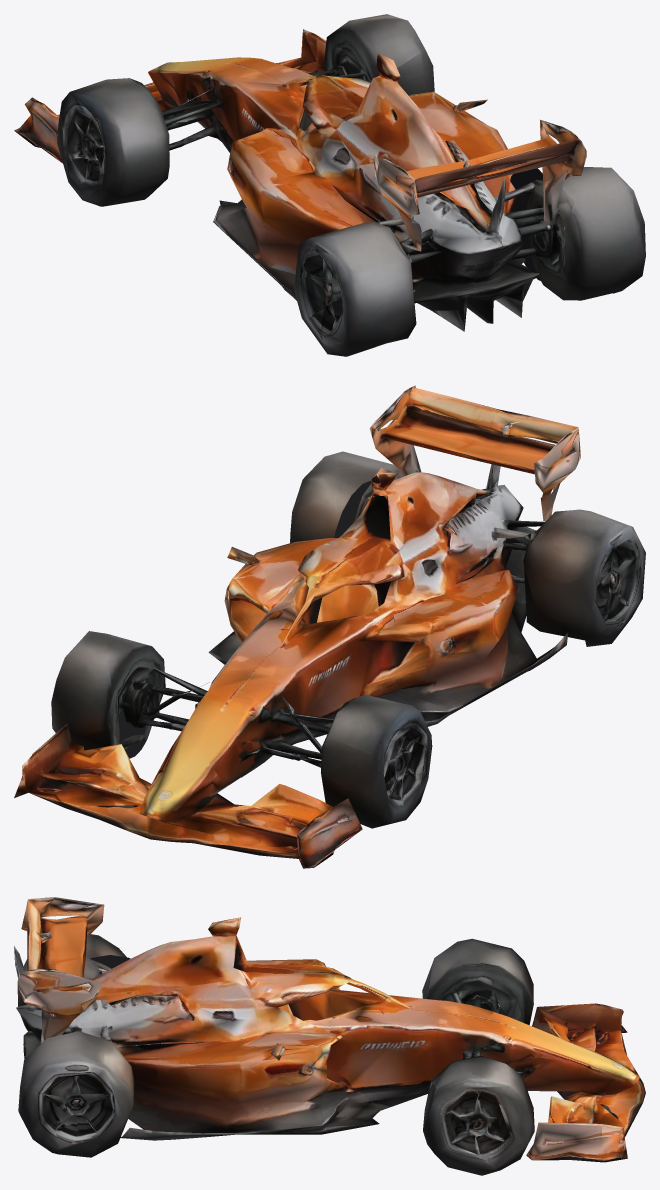
The model's file is mono_loin.glb.
3 renders of one model, top to bottom at view 1: azimuth 30°, elevation 25°; view 2: azimuth 150°, elevation 25°; view 3: azimuth 270°, elevation 25°, orthographic. The views are drawn at different scales.
Parts seen in each view (by area): view 1: body, wheel_rl, wheel_fl, wheel_rr; view 2: body, wheel_rl, wheel_rr, wheel_fl, wheel_fr; view 3: body, wheel_rr, wheel_fr.
Part boxes in pixels (x1=…): body: x1=14, y1=14, x2=645, y2=356; wheel_rl: x1=294, y1=222, x2=372, y2=339; wheel_fl: x1=64, y1=129, x2=113, y2=206; wheel_rr: x1=510, y1=168, x2=542, y2=280; body: x1=14, y1=385, x2=645, y2=868; wheel_rl: x1=524, y1=518, x2=629, y2=646; wheel_rr: x1=290, y1=468, x2=371, y2=543; wheel_fl: x1=384, y1=746, x2=428, y2=822; wheel_fr: x1=119, y1=696, x2=151, y2=758; body: x1=14, y1=897, x2=645, y2=1175; wheel_rr: x1=53, y1=1041, x2=157, y2=1157; wheel_fr: x1=448, y1=1109, x2=510, y2=1175.
Size of the model in its own units: 2.32 by 1.44 by 4.3.
2 materials, 1 textured.
